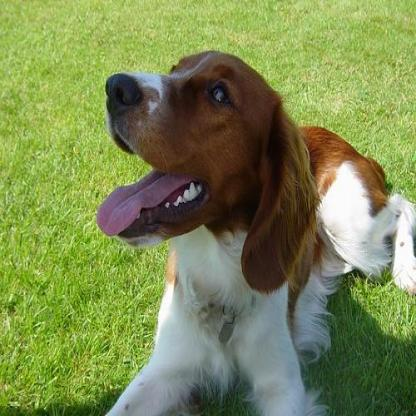Welsh_springer_spaniel: (96, 46, 414, 412)
